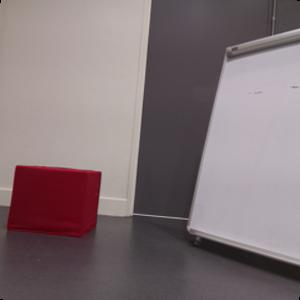big: (188, 27, 300, 271)
medium: (7, 165, 100, 236)
